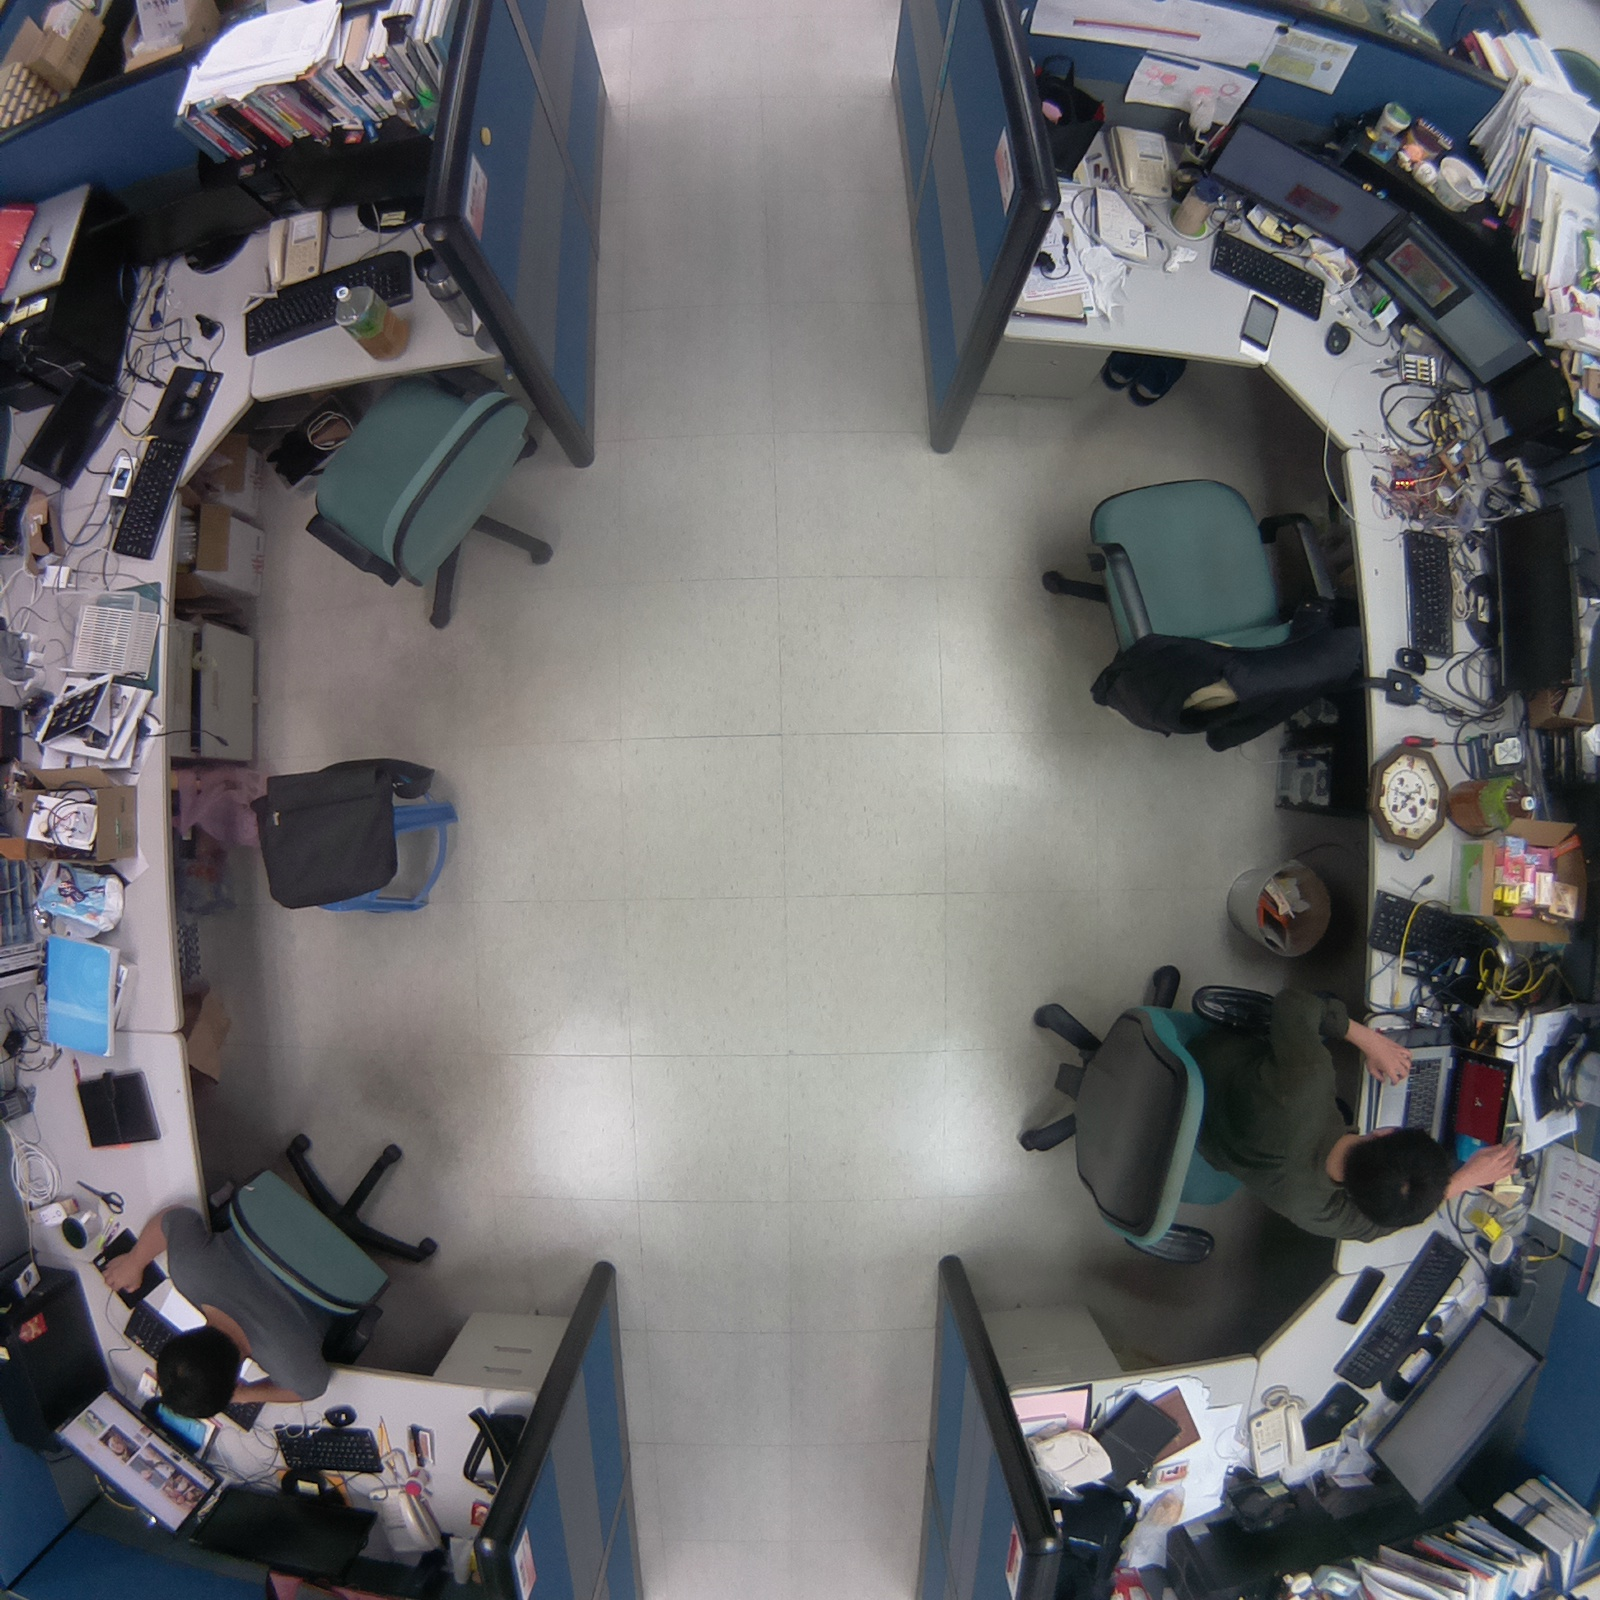chair: (1014, 455, 1368, 758), (291, 355, 583, 658)
head: (1341, 1120, 1458, 1237), (150, 1320, 250, 1425)
sitting: (996, 940, 1524, 1283), (94, 1104, 463, 1427)
